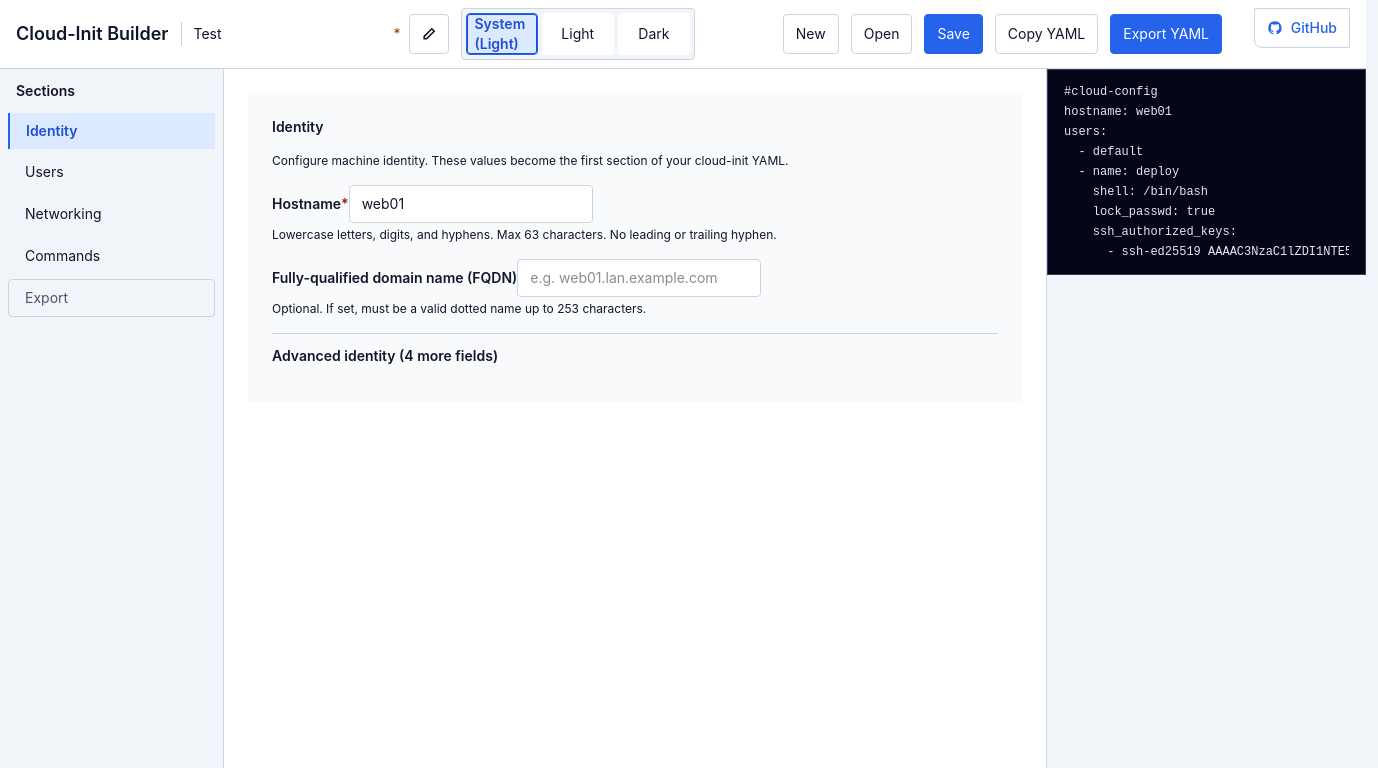
Test: MainLayout export gating › blocks export for unsupported password draft when SSH auth is otherwise valid
Click the button "Users". click: (112, 172)
box: [8,153,215,191]
(page scrolled)
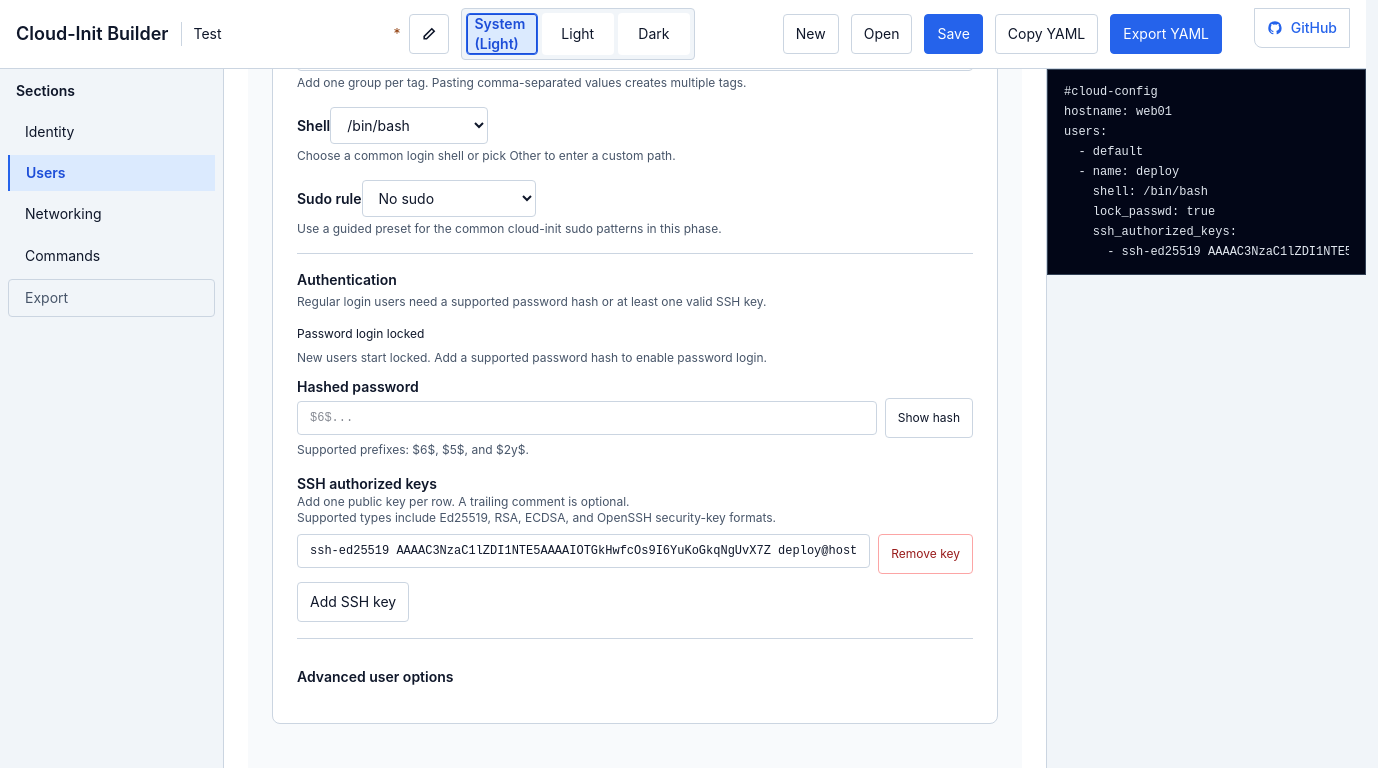
Type "hunter2" into the password field labelled "Hashed password". click: (587, 418)
box: [297,401,877,435]
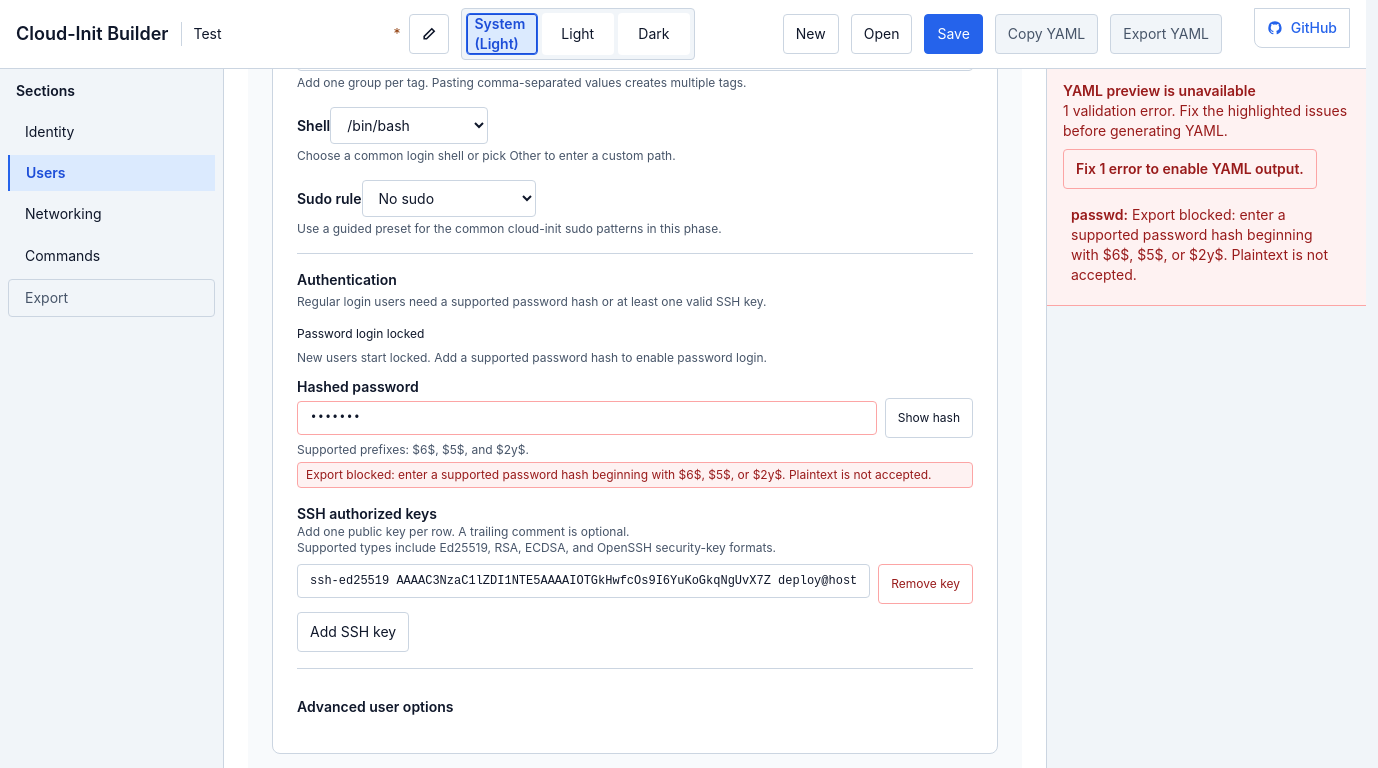
Check: the element that starts with "YAML preview is unavailable" is shown, box [1046,69,1366,767]
Check: the button "Export blocked: enter a supported password hash" is shown, box [1063,197,1350,293]
Click the button "Export YAML". click: (1166, 34)
box: [1110,14,1222,54]
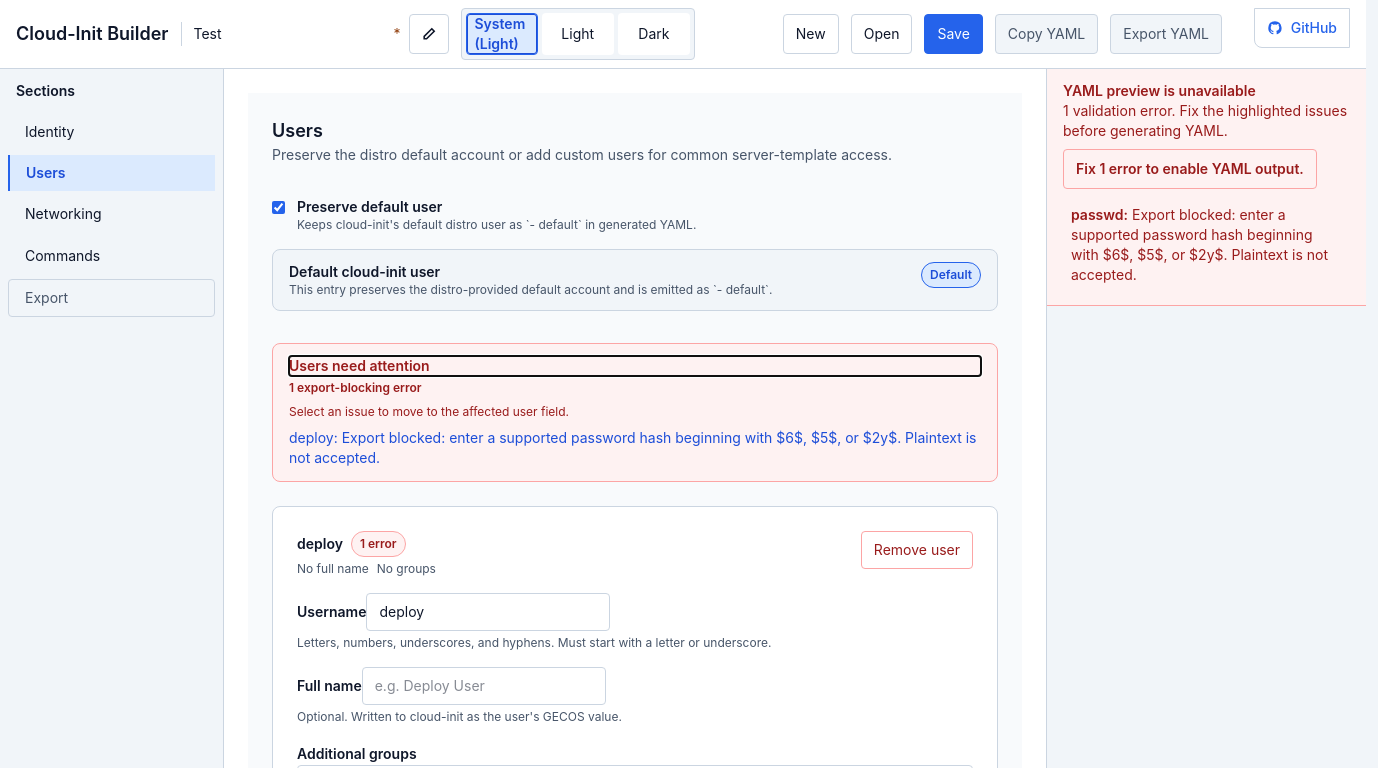
Check: the heading "Users need attention" is shown, box [289,357,430,374]
Check: the button "Export blocked: enter a supported password hash" is shown, box [289,428,981,468]
